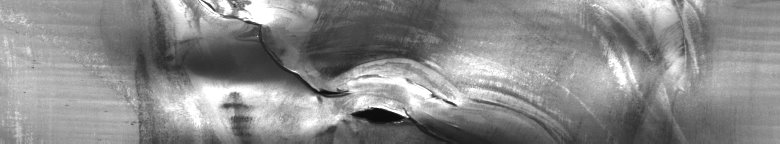ke: (165, 4, 596, 136)
